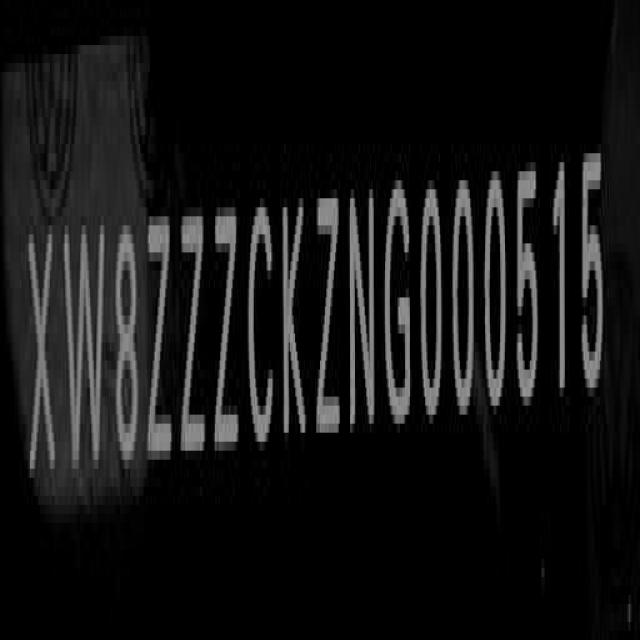0: (482, 158, 508, 420), (420, 171, 445, 426), (452, 160, 476, 422)
1: (556, 142, 573, 411)
5: (581, 137, 608, 405), (516, 148, 541, 413)
8: (116, 213, 140, 478)
C: (248, 185, 276, 457)
G: (385, 182, 412, 441)
K: (282, 178, 308, 454)
N: (347, 174, 379, 444)
W: (61, 207, 109, 488)
X: (27, 219, 57, 493)
Z: (182, 195, 210, 469), (214, 190, 241, 466), (315, 172, 342, 448), (146, 204, 173, 477)
